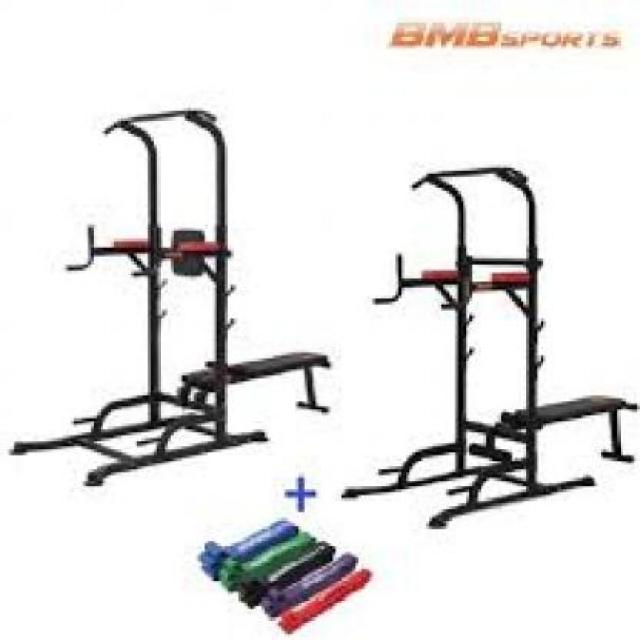chinning dipping: (9, 105, 269, 489), (342, 163, 546, 528)
